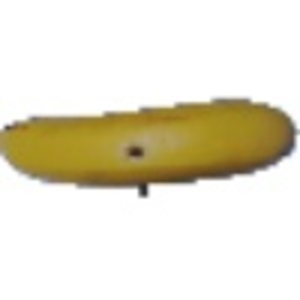banana: (1, 93, 297, 192)
